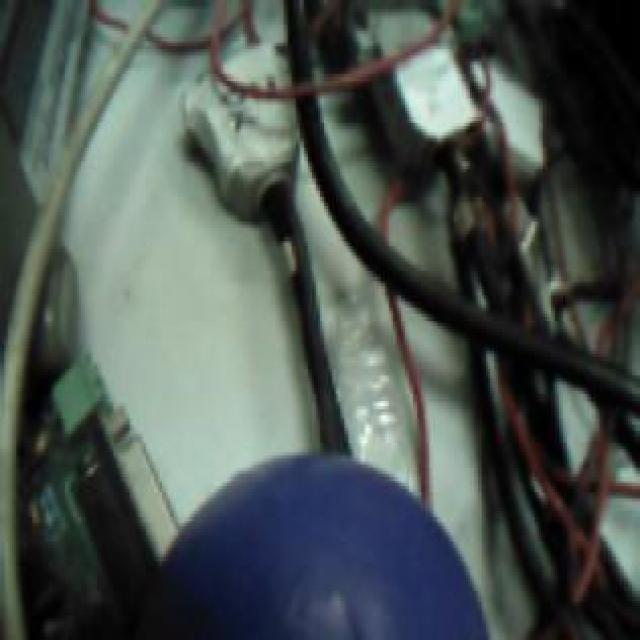BallPurple: (156, 449, 488, 640)
